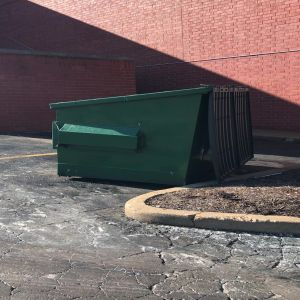Dumpster: (45, 82, 259, 187)
